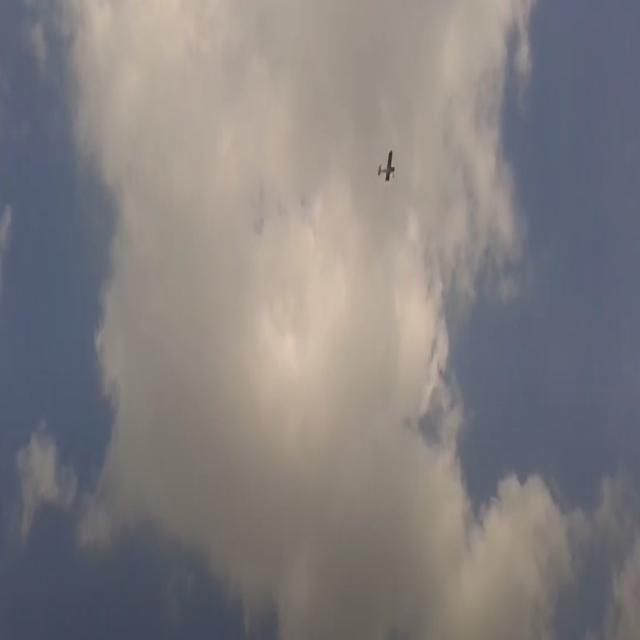iha: (377, 146, 395, 183)
